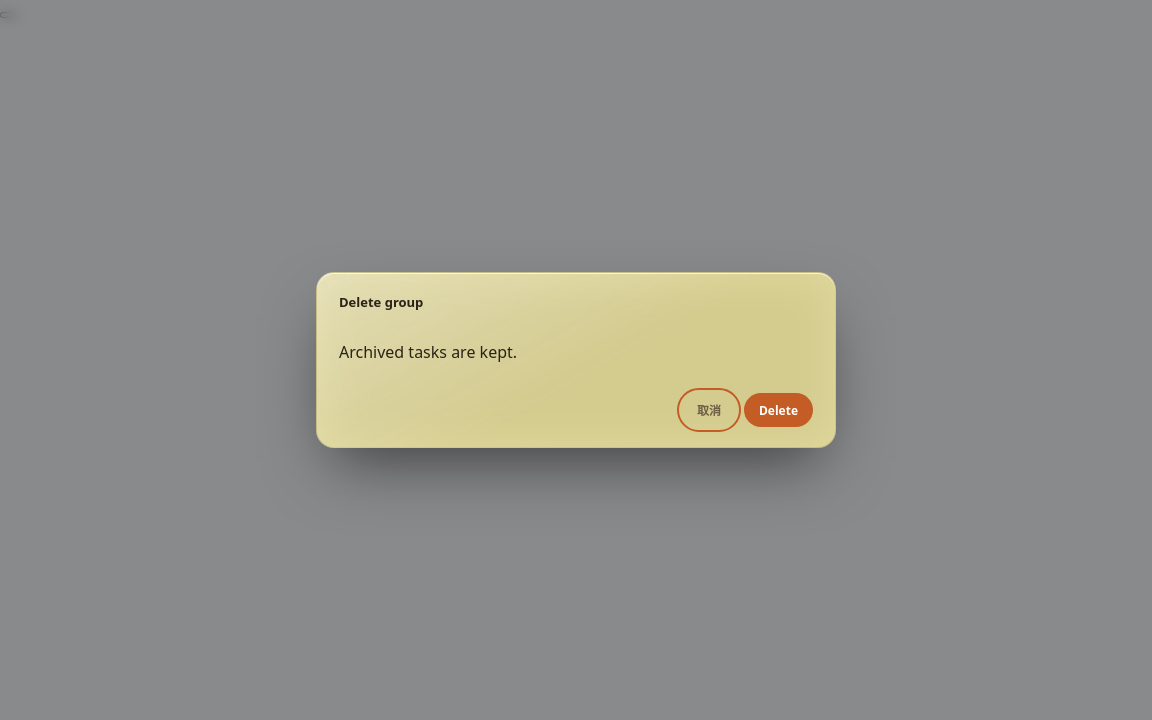
Test: keeps confirmation and failure context open, blocks duplicate pending work and retries
Later steps or results of the test are not shown.
Click the button "Delete".
click(778, 410)  # box 744,393 -> 813,427
Click the button "Delete".
click(778, 410)  # box 744,393 -> 813,427
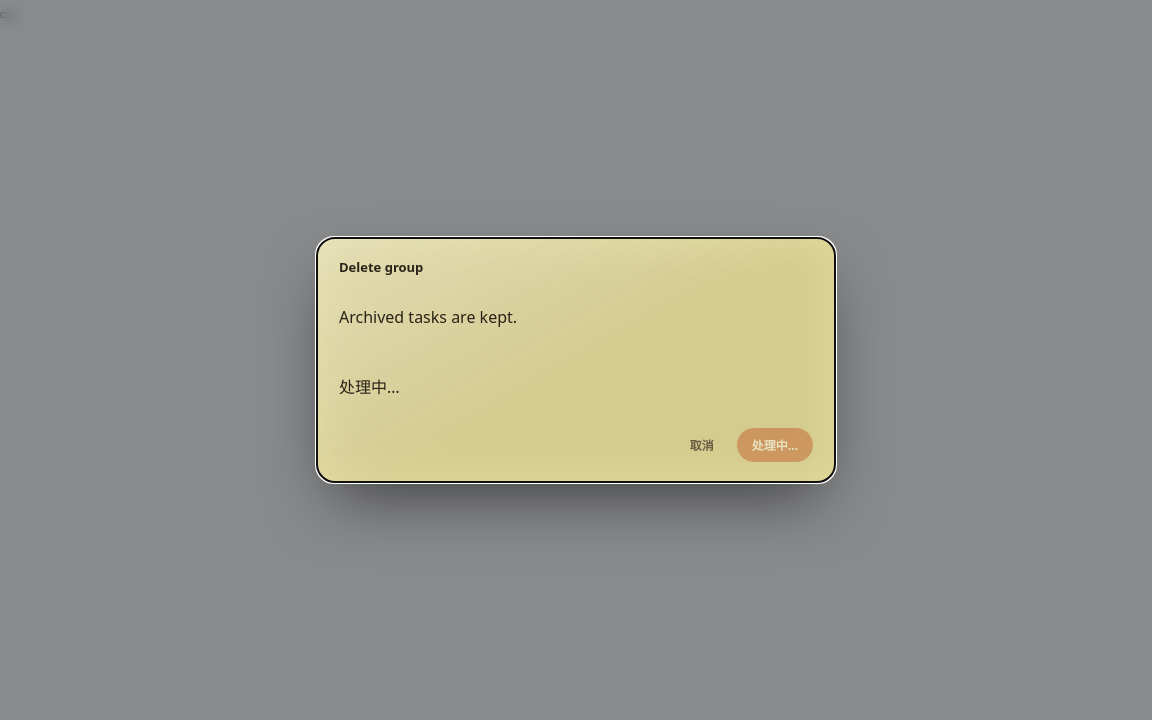
Check: the button "取消" is disabled, box 675,428 -> 729,462
Check: the button "处理中…" is disabled, box 737,428 -> 813,462
Press Escape in the dialog, box 316,237 -> 836,483
Press Tab in the dialog, box 316,237 -> 836,483
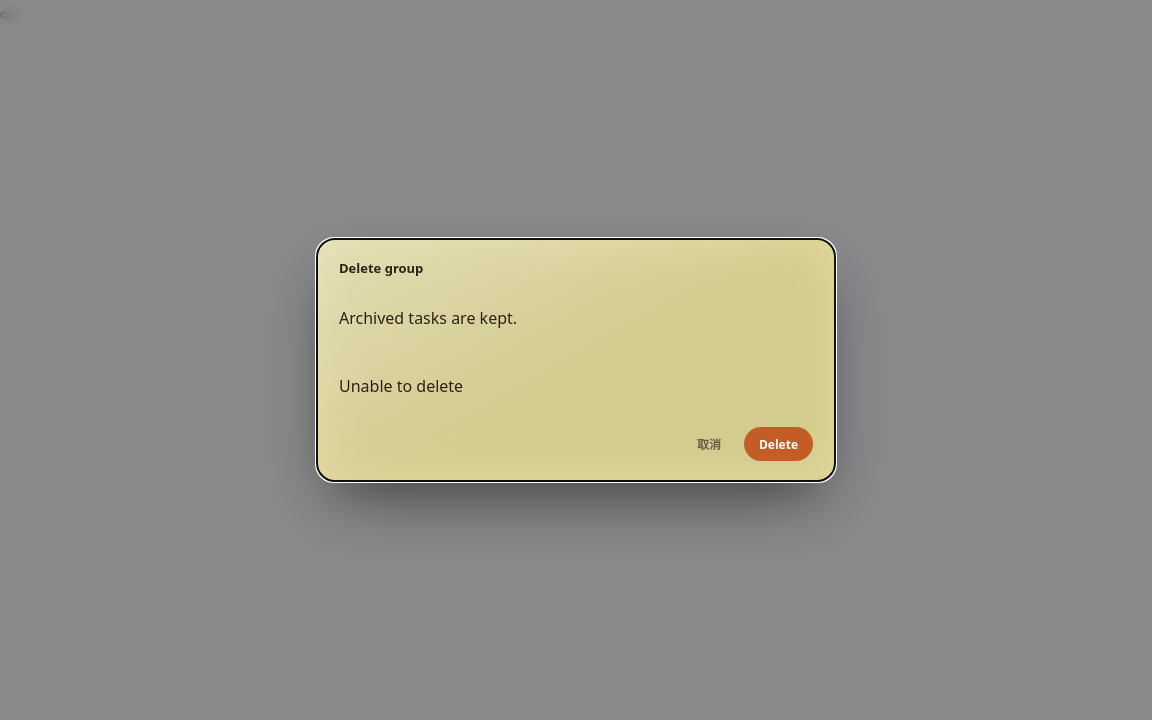
Check: the text "Archived tasks are kept." is shown, box 339,307 -> 517,329
Check: the message "Unable to delete" is shown, box 339,375 -> 463,397
Check: the button "Delete" is enabled
Click the button "Delete".
click(778, 444)  # box 744,427 -> 813,461
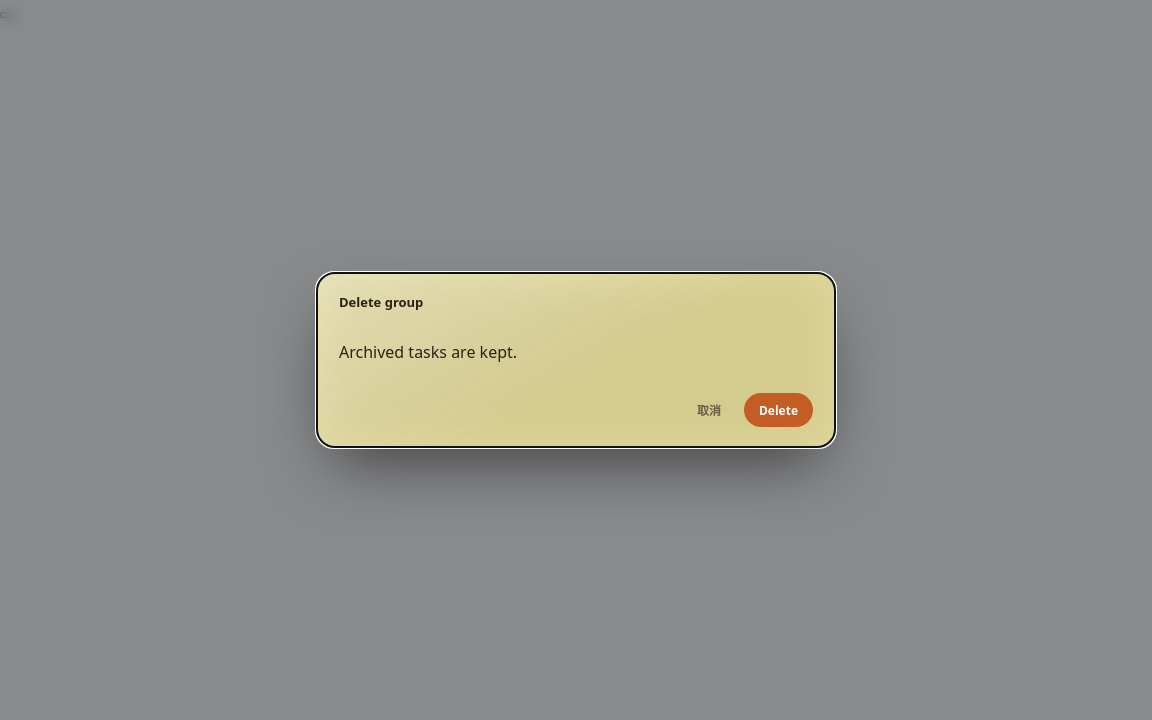
Check: the dialog is shown, box 316,272 -> 836,448
Check: the message "Unable to delete" is gone
